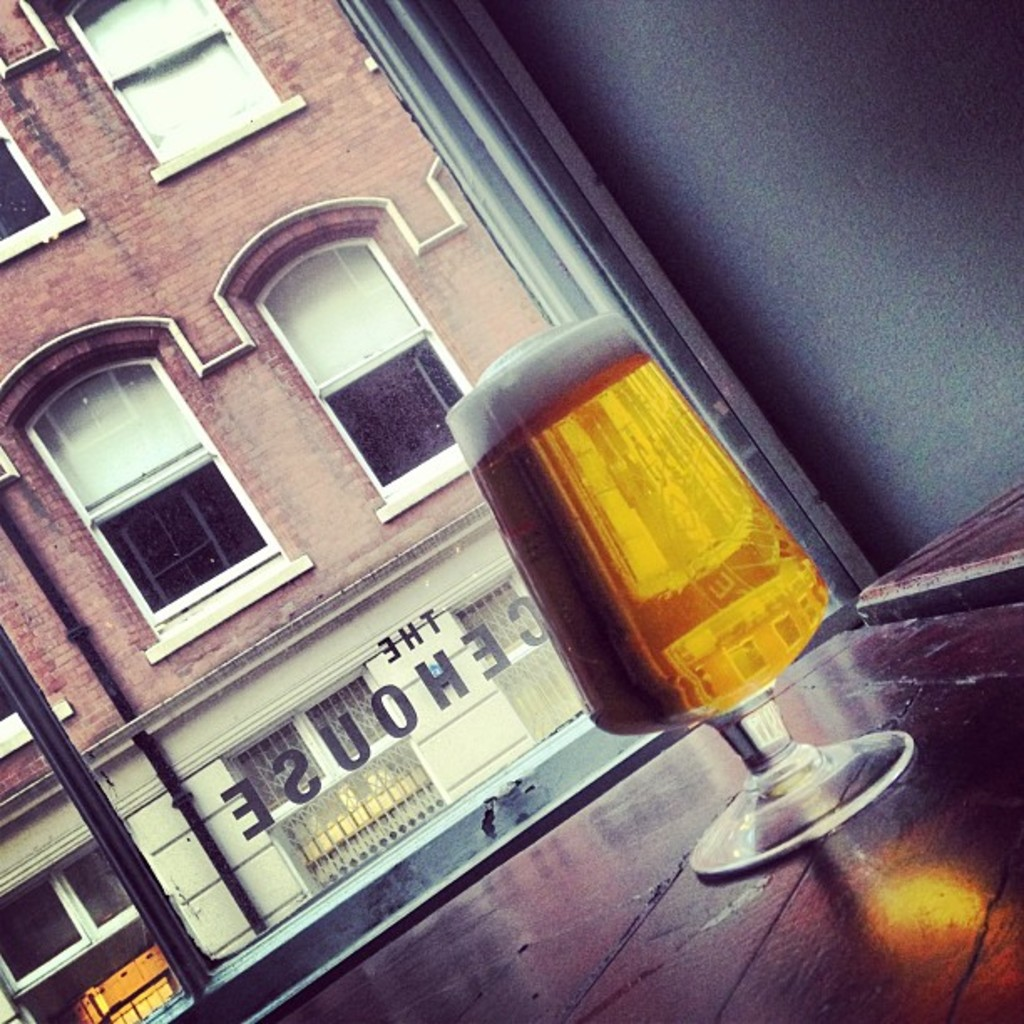Beer: (448, 311, 826, 727)
